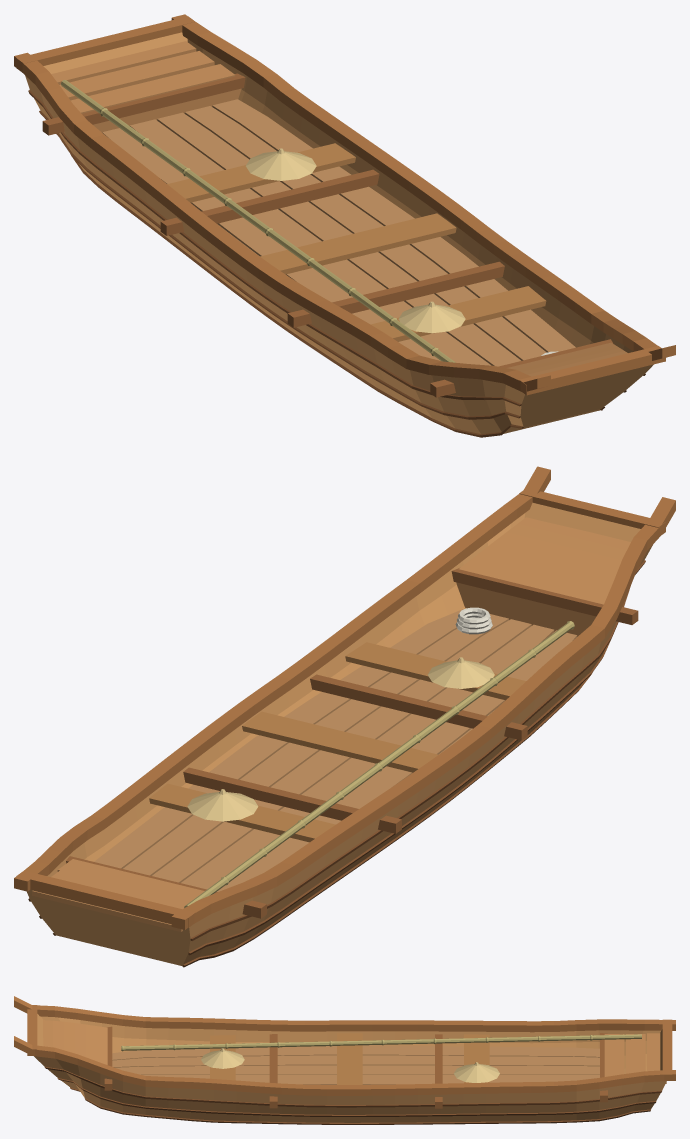
Rendered from boat.fbx.
3 renders of one model, top to bottom at view 1: azimuth 30°, elevation 25°; view 2: azimuth 150°, elevation 25°; view 3: azimuth 270°, elevation 25°, orthographic. The views are drawn at different scales.
Visible parts, largest first — view 1: Boat_Floor, Boat_Rail, Boat_Hull, Boat_Deck, Boat_Bench, Boat_Beam, Boat_Seam, Boat_Pole, Boat_Hat; view 2: Boat_Floor, Boat_Rail, Boat_Hull, Boat_Deck, Boat_Bench, Boat_Beam, Boat_Seam, Boat_Pole, Boat_Hat, Boat_Rope; view 3: Boat_Hull, Boat_Rail, Boat_Floor, Boat_Seam, Boat_Deck, Boat_Pole, Boat_Bench, Boat_Beam, Boat_Hat.
Boxes of the visible parts, bbox=[...] form: Boat_Floor: bbox=[102, 99, 575, 366]; Boat_Rail: bbox=[14, 14, 675, 395]; Boat_Hull: bbox=[25, 32, 653, 434]; Boat_Deck: bbox=[51, 41, 627, 376]; Boat_Bench: bbox=[167, 143, 546, 341]; Boat_Beam: bbox=[42, 73, 612, 397]; Boat_Seam: bbox=[28, 90, 645, 437]; Boat_Pole: bbox=[61, 80, 455, 362]; Boat_Hat: bbox=[246, 148, 465, 333]; Boat_Floor: bbox=[94, 608, 577, 891]; Boat_Rail: bbox=[14, 466, 675, 929]; Boat_Hull: bbox=[27, 502, 652, 965]; Boat_Deck: bbox=[32, 517, 630, 931]; Boat_Bench: bbox=[149, 642, 525, 842]; Boat_Beam: bbox=[66, 568, 638, 918]; Boat_Seam: bbox=[28, 560, 645, 967]; Boat_Pole: bbox=[184, 621, 574, 907]; Boat_Hat: bbox=[187, 657, 494, 821]; Boat_Rope: bbox=[455, 607, 492, 634]; Boat_Hull: bbox=[34, 1014, 666, 1122]; Boat_Rail: bbox=[14, 996, 675, 1095]; Boat_Floor: bbox=[112, 1045, 599, 1084]; Boat_Seam: bbox=[44, 1067, 661, 1124]; Boat_Deck: bbox=[43, 1020, 666, 1083]; Boat_Pole: bbox=[121, 1034, 641, 1051]; Boat_Bench: bbox=[210, 1033, 489, 1084]; Boat_Beam: bbox=[104, 1026, 607, 1108]; Boat_Hat: bbox=[201, 1048, 499, 1082].
Bounding box in the file's own units: 7.26 × 3.65 × 27.1.
